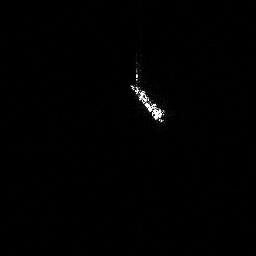ship: (126, 80, 169, 126)
